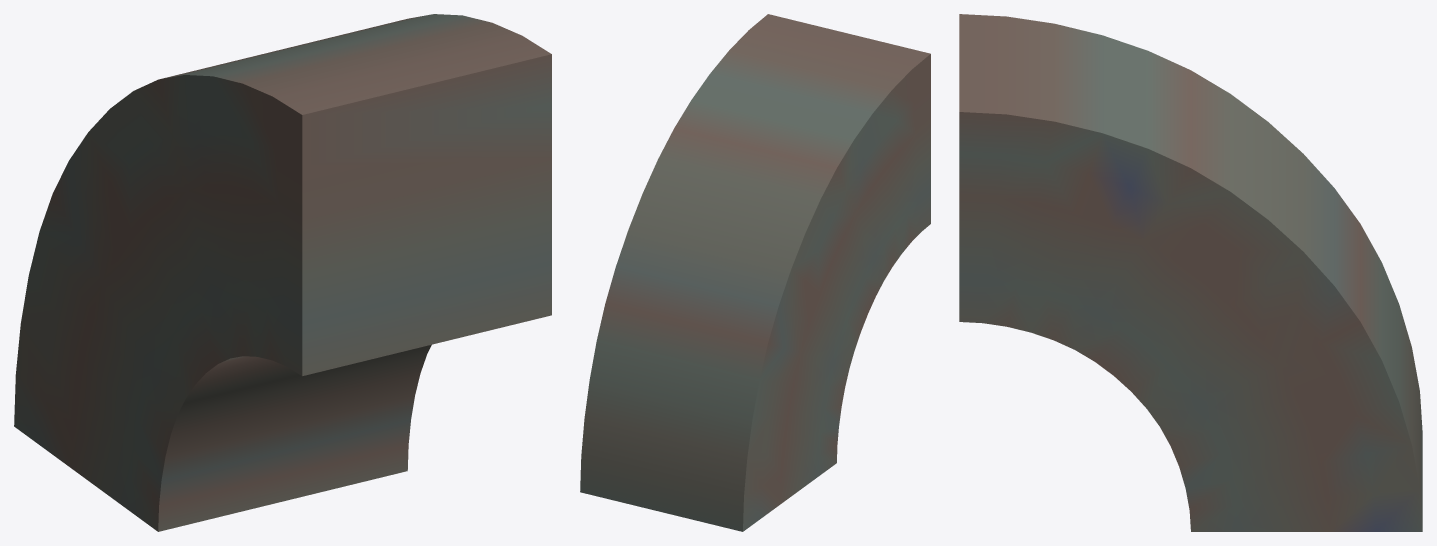
File: SuperGrid_RingQuarter_Vlad.fbx
3 renders of one model, left to right at view 1: azimuth 30°, elevation 25°; view 2: azimuth 150°, elevation 25°; view 3: azimuth 270°, elevation 25°, orthographic. The views are drawn at different scales.
Parts seen in each view (by area): view 1: SuperGrid_RingQuarter; view 2: SuperGrid_RingQuarter; view 3: SuperGrid_RingQuarter.
Boxes of the visible parts, x1,y1,x2,y2 form: SuperGrid_RingQuarter: (14, 14, 551, 531); SuperGrid_RingQuarter: (580, 14, 930, 531); SuperGrid_RingQuarter: (959, 14, 1422, 531).
Bounding box in the file's own units: 10000 × 20000 × 20000.
